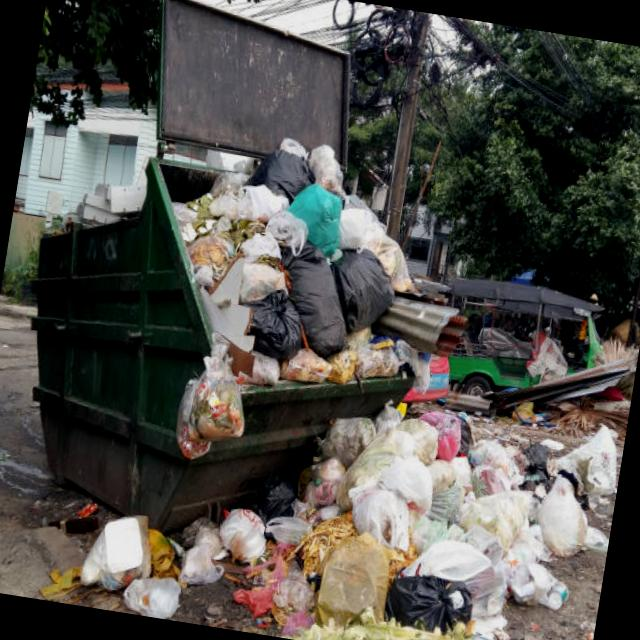garbage: (81, 117, 640, 640)
